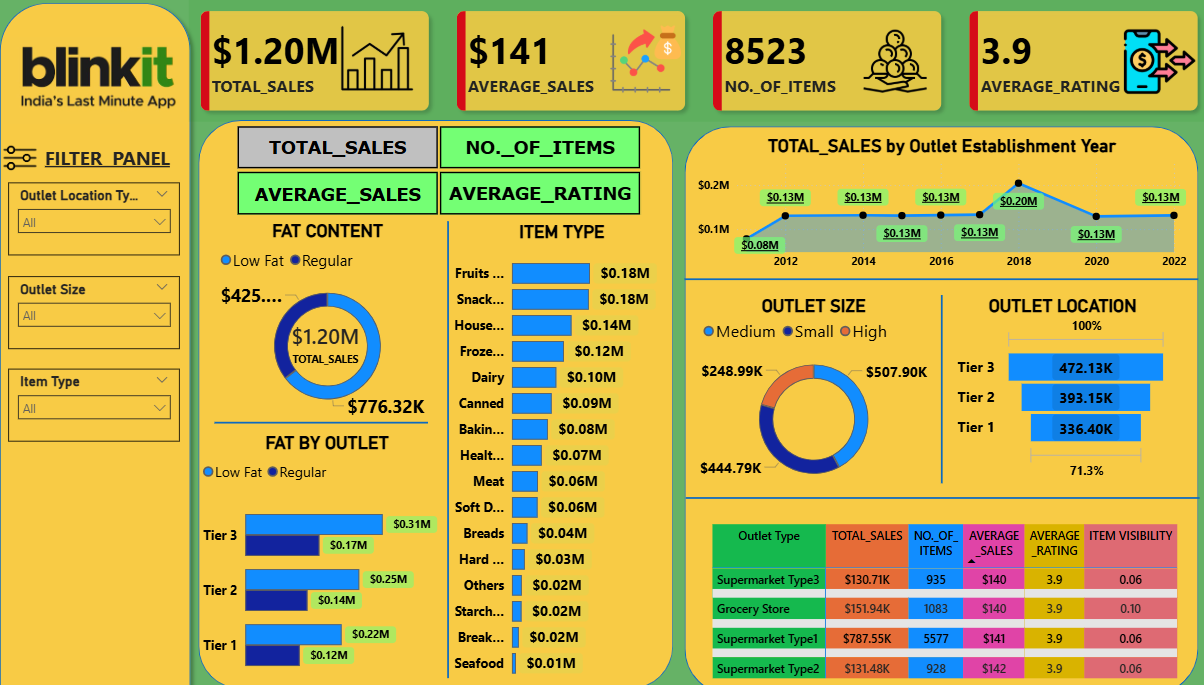

What the dashboard file says about the page in this screenshot:
{"tool":"powerbi","page":{"name":"Page 1","canvas":[1400,800],"ordinal":0},"visuals":[{"type":"shape","box":[0,0,235.8,800],"z":0},{"type":"image","box":[14.9,46.3,206,104.5],"z":1000},{"type":"cardVisual","fields":{"Data":["BlinkIT Grocery Data.TOTAL_SALES","BlinkIT Grocery Data.AVERAGE_SALES","BlinkIT Grocery Data.NO._OF_ITEMS","BlinkIT Grocery Data.AVERAGE_RATING"]},"box":[220.6,0,1179.4,150],"z":2000},{"type":"image","box":[351.5,20.6,177.9,104.4],"z":3000},{"type":"image","box":[966.2,36.8,132.4,76.5],"z":4000},{"type":"image","box":[1279.4,35.3,108.8,80.9],"z":5000},{"type":"image","box":[651.5,32.4,191.2,80.9],"z":6000},{"type":"shape","box":[235.9,143.2,542.6,650.3],"z":7000},{"type":"donutChart","title":"FAT CONTENT","fields":{"Y":["BlinkIT Grocery Data.TOTAL_SALES"],"Category":["BlinkIT Grocery Data.Item Fat Content"]},"box":[255.7,257.1,255.7,231.4],"z":8000},{"type":"slicer","fields":{"Values":["Metrics.Metrics"]},"box":[254.5,142.4,510.6,115.2],"z":9000},{"type":"cardVisual","fields":{"Data":["BlinkIT Grocery Data.TOTAL_SALES"]},"box":[309.1,359.1,145.5,81.8],"z":10000},{"type":"clusteredBarChart","title":"FAT BY OUTLET","fields":{"Y":["BlinkIT Grocery Data.TOTAL_SALES"],"Category":["BlinkIT Grocery Data.Outlet Location Type"],"Series":["BlinkIT Grocery Data.Item Fat Content"]},"box":[235.9,500.3,294.5,299.9],"z":11000},{"type":"clusteredBarChart","title":"ITEM TYPE","fields":{"Y":["BlinkIT Grocery Data.TOTAL_SALES"],"Category":["BlinkIT Grocery Data.Item Type"]},"box":[511.4,258.6,280,534.3],"z":12000},{"type":"shape","box":[791.4,150,587.1,650],"z":13000},{"type":"lineChart","fields":{"Category":["BlinkIT Grocery Data.Outlet Establishment Year"],"Y":["BlinkIT Grocery Data.TOTAL_SALES"]},"box":[801.4,160,568.6,162.9],"z":14000},{"type":"shape","box":[254.9,463.5,244,51.8],"z":15000},{"type":"shape","box":[486.7,259,68.2,522.2],"z":16000},{"type":"donutChart","title":"OUTLET SIZE","fields":{"Category":["BlinkIT Grocery Data.Outlet Size"],"Y":["BlinkIT Grocery Data.TOTAL_SALES"]},"box":[807.1,342.9,264.3,231.4],"z":17000},{"type":"funnel","title":"OUTLET LOCATION","fields":{"Category":["BlinkIT Grocery Data.Outlet Location Type"],"Y":["Sum(BlinkIT Grocery Data.Sales)"]},"box":[1098.6,342.9,250,215.7],"z":18000},{"type":"shape","box":[792.1,291.8,587.6,66.8],"z":19000},{"type":"slicer","fields":{"Values":["BlinkIT Grocery Data.Outlet Location Type"]},"box":[19.1,214,196.3,83.2],"z":20000},{"type":"slicer","fields":{"Values":["BlinkIT Grocery Data.Outlet Size"]},"box":[19.1,321.7,196.3,83.2],"z":21000},{"type":"slicer","fields":{"Values":["BlinkIT Grocery Data.Item Type"]},"box":[19.1,426.7,196.3,83.2],"z":22000},{"type":"textbox","box":[21.8,166.3,220.9,68.2],"z":23000},{"type":"image","box":[0,151.3,64.1,69.5],"z":24000},{"type":"pivotTable","fields":{"Rows":["BlinkIT Grocery Data.Outlet Type"],"Values":["BlinkIT Grocery Data.TOTAL_SALES","BlinkIT Grocery Data.NO._OF_ITEMS","BlinkIT Grocery Data.AVERAGE_SALES","BlinkIT Grocery Data.AVERAGE_RATING","Avg(BlinkIT Grocery Data.Item Visibility)"]},"box":[818,599.9,552.2,193.6],"z":25000},{"type":"shape","box":[793.5,541.2,587.6,66.8],"z":25001},{"type":"shape","box":[946.2,343.6,279.5,215.4],"z":25002}]}

Visuals, with their boxes in screenshot pixels (x1, y1, x2, y2), scaled from the page's 1400x800 canvas onto the 1204x685 screenshot:
shape: bbox(0, 0, 203, 684)
image: bbox(13, 40, 190, 129)
cardVisual - BlinkIT Grocery Data.TOTAL_SALES x BlinkIT Grocery Data.AVERAGE_SALES: bbox(190, 0, 1203, 128)
image: bbox(302, 18, 455, 107)
image: bbox(831, 32, 945, 97)
image: bbox(1100, 30, 1194, 99)
image: bbox(560, 28, 725, 97)
shape: bbox(203, 123, 670, 679)
"FAT CONTENT" donutChart: bbox(220, 220, 440, 418)
slicer - Metrics.Metrics: bbox(219, 122, 658, 221)
cardVisual - BlinkIT Grocery Data.TOTAL_SALES: bbox(266, 307, 391, 378)
"FAT BY OUTLET" clusteredBarChart: bbox(203, 428, 456, 684)
"ITEM TYPE" clusteredBarChart: bbox(440, 221, 681, 679)
shape: bbox(681, 128, 1186, 684)
lineChart - BlinkIT Grocery Data.Outlet Establishment Year x BlinkIT Grocery Data.TOTAL_SALES: bbox(689, 137, 1178, 276)
shape: bbox(219, 397, 429, 441)
shape: bbox(419, 222, 477, 669)
"OUTLET SIZE" donutChart: bbox(694, 294, 921, 492)
"OUTLET LOCATION" funnel: bbox(945, 294, 1160, 478)
shape: bbox(681, 250, 1187, 307)
slicer - BlinkIT Grocery Data.Outlet Location Type: bbox(16, 183, 185, 254)
slicer - BlinkIT Grocery Data.Outlet Size: bbox(16, 275, 185, 347)
slicer - BlinkIT Grocery Data.Item Type: bbox(16, 365, 185, 437)
textbox: bbox(19, 142, 209, 201)
image: bbox(0, 130, 55, 189)
pivotTable - BlinkIT Grocery Data.Outlet Type x BlinkIT Grocery Data.TOTAL_SALES: bbox(703, 514, 1178, 679)
shape: bbox(682, 463, 1188, 521)
shape: bbox(814, 294, 1054, 479)
